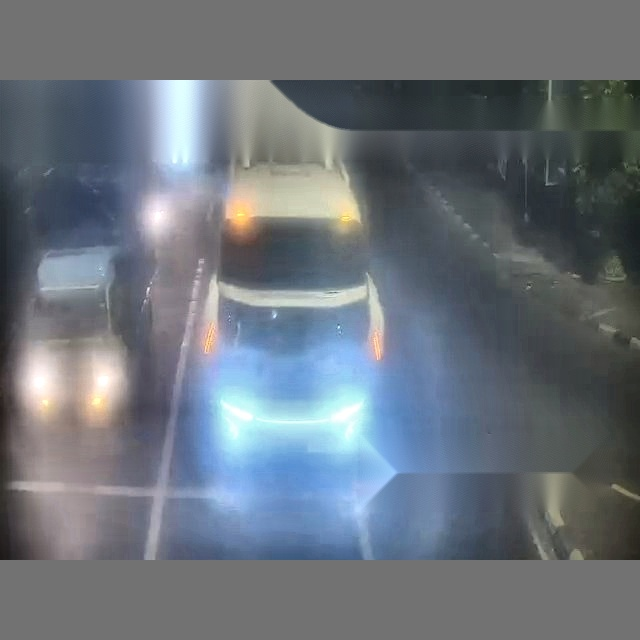Bis: (141, 62, 616, 555)
